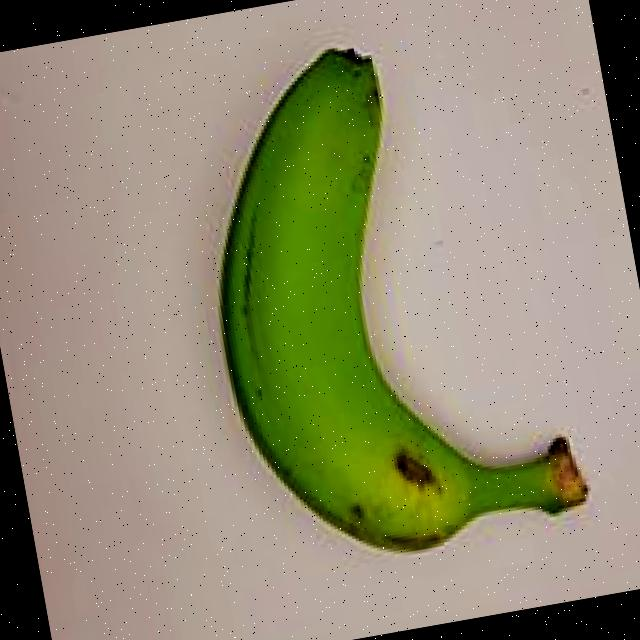Unripe: (142, 0, 625, 611)
